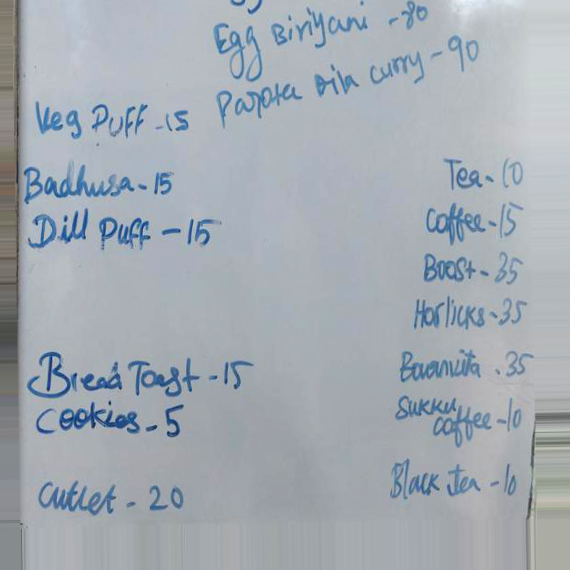Tea - 10: (434, 151, 526, 193)
badhusa -15: (21, 161, 185, 206)
black tea - 10: (387, 454, 523, 504)
boost - 35: (418, 251, 529, 293)
bournvita - 35: (397, 345, 536, 390)
bread toast - 15: (24, 348, 257, 402)
coffee - 15: (421, 197, 525, 246)
cookies - 5: (35, 402, 196, 445)
cutlet - 20: (36, 474, 199, 520)
dill puff - 15: (23, 208, 232, 264)
egg briyani - 80: (205, 11, 376, 61)
horlicks - 35: (411, 295, 535, 340)
parotta - 90: (207, 63, 417, 131)
sukku coffee - 10: (393, 392, 529, 450)
veg puff - 15: (27, 100, 197, 143)
